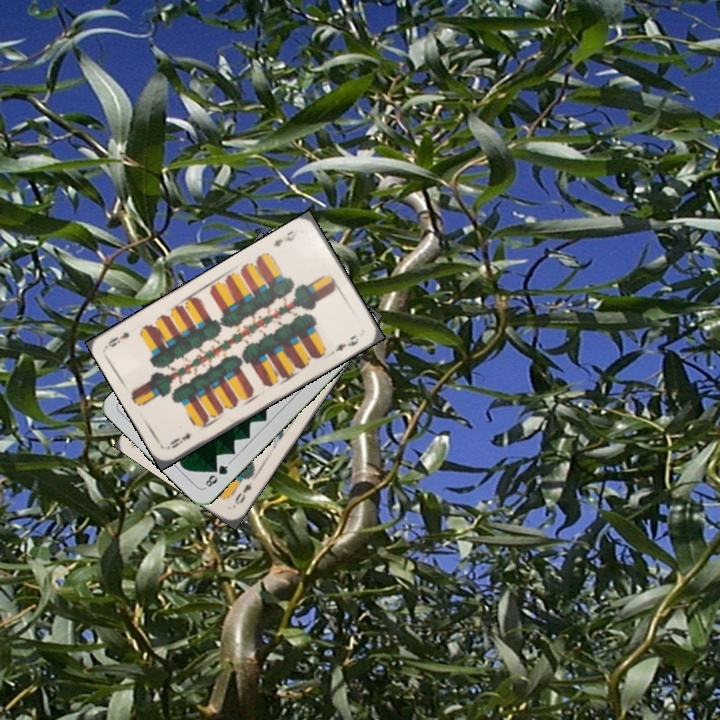E9: (270, 227, 303, 250), (164, 428, 194, 451)
EO: (230, 472, 255, 507)
G8: (200, 458, 233, 491)
